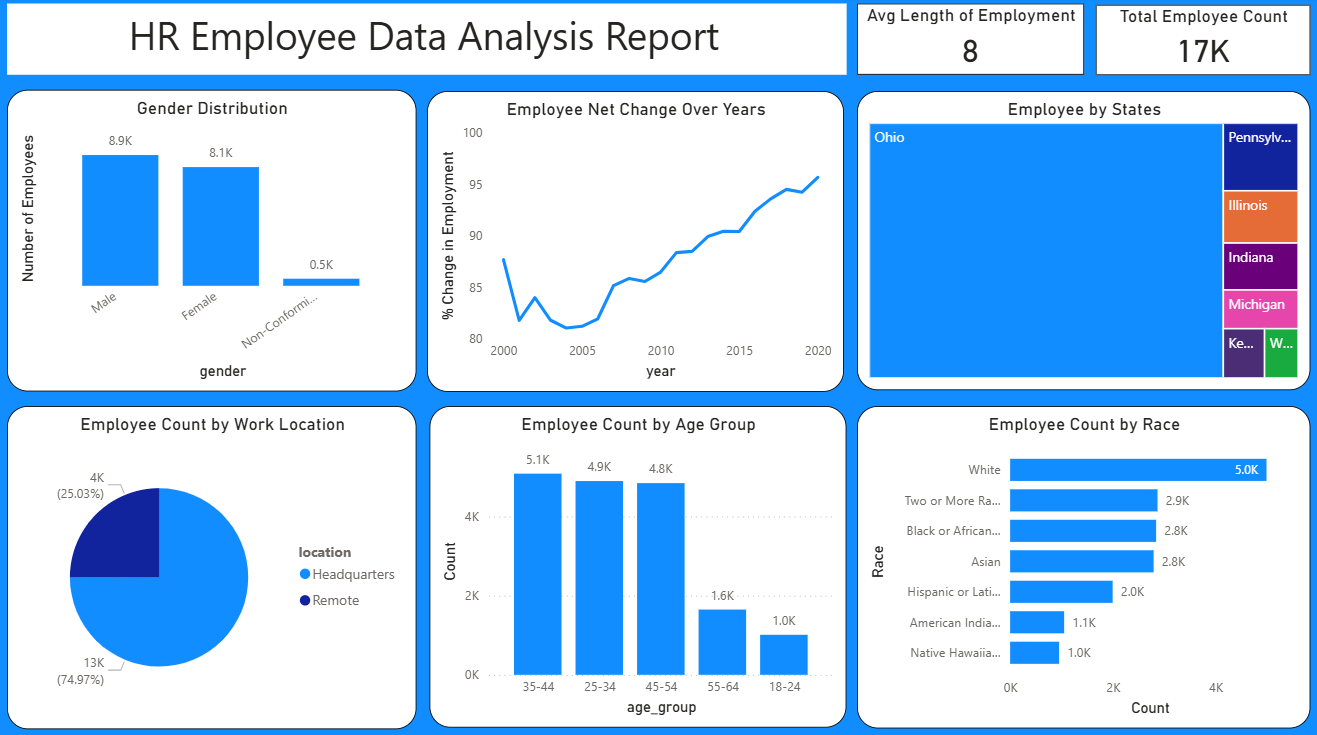

This screenshot's page, from the dashboard's own definition file:
{"tool":"powerbi","page":{"name":"Page 1","canvas":[1280,720],"ordinal":0},"visuals":[{"type":"textbox","box":[9.5,6.8,810.2,69.1],"z":0},{"type":"card","title":"Avg Length of Employment","fields":{"Values":["Sum(avg_employment_length.avg_employment_length)"]},"box":[830.5,6.8,219.5,69.1],"z":1000},{"type":"clusteredColumnChart","title":"Gender Distribution","fields":{"Category":["gender_breakdown.gender"],"Y":["Sum(gender_breakdown.count)"]},"box":[10,91,395,291],"z":2000},{"type":"pieChart","title":"Employee Count by Work Location","fields":{"Category":["employee_location.location"],"Y":["Sum(employee_location.count)"]},"box":[9.5,395.6,395.6,311.6],"z":3000},{"type":"lineChart","title":"Employee Net Change Over Years","fields":{"Category":["employee_change.year"],"Y":["Sum(employee_change.net_change_percent)"]},"box":[415.6,91.1,402.2,290],"z":4000},{"type":"treemap","title":"Employee by States","fields":{"Group":["employee_by_location_state.location_state"],"Values":["Sum(employee_by_location_state.count)"]},"box":[830,92.2,437.8,288.9],"z":5000},{"type":"clusteredBarChart","title":"Employee Count by Race","fields":{"Category":["ethnicity_breakdown.race"],"Y":["Sum(ethnicity_breakdown.count)"]},"box":[830,395.6,437.8,311.1],"z":6000},{"type":"clusteredColumnChart","title":"Employee Count by Age Group","fields":{"Category":["age_group.age_group"],"Y":["Sum(age_group.count)"]},"box":[417.3,395.6,402.4,310.2],"z":7000},{"type":"card","title":"Total Employee Count","fields":{"Values":["Sum(age_group_by_gender.count)"]},"box":[1060.8,8.1,207.3,67.7],"z":8000}]}

Visuals, with their boxes in screenshot pixels (x1, y1, x2, y2), scaled from the page's 1280x720 canvas onto the 1317x735 screenshot:
textbox: 10,7,843,77
"Avg Length of Employment" card: 855,7,1080,77
"Gender Distribution" clusteredColumnChart: 10,93,417,390
"Employee Count by Work Location" pieChart: 10,404,417,722
"Employee Net Change Over Years" lineChart: 428,93,841,389
"Employee by States" treemap: 854,94,1304,389
"Employee Count by Race" clusteredBarChart: 854,404,1304,721
"Employee Count by Age Group" clusteredColumnChart: 429,404,843,721
"Total Employee Count" card: 1091,8,1305,77
